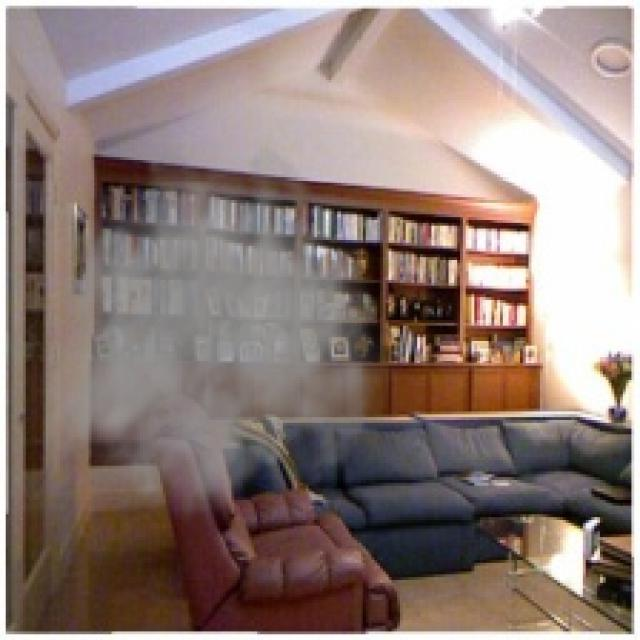smoke: (46, 140, 406, 529)
